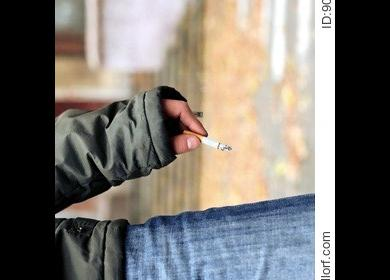Cigarette: (182, 128, 234, 152)
